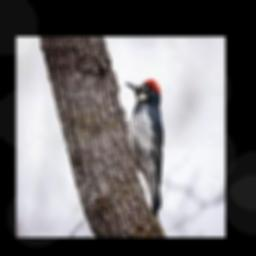Woodpecker: (124, 79, 163, 218)
